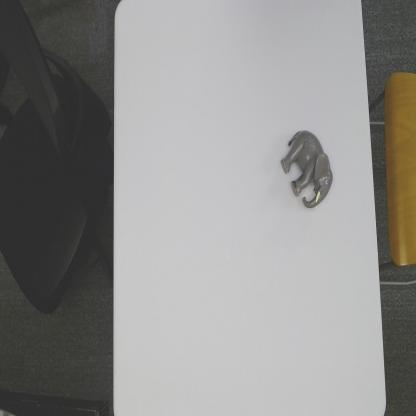Elephant: (280, 128, 334, 212)
